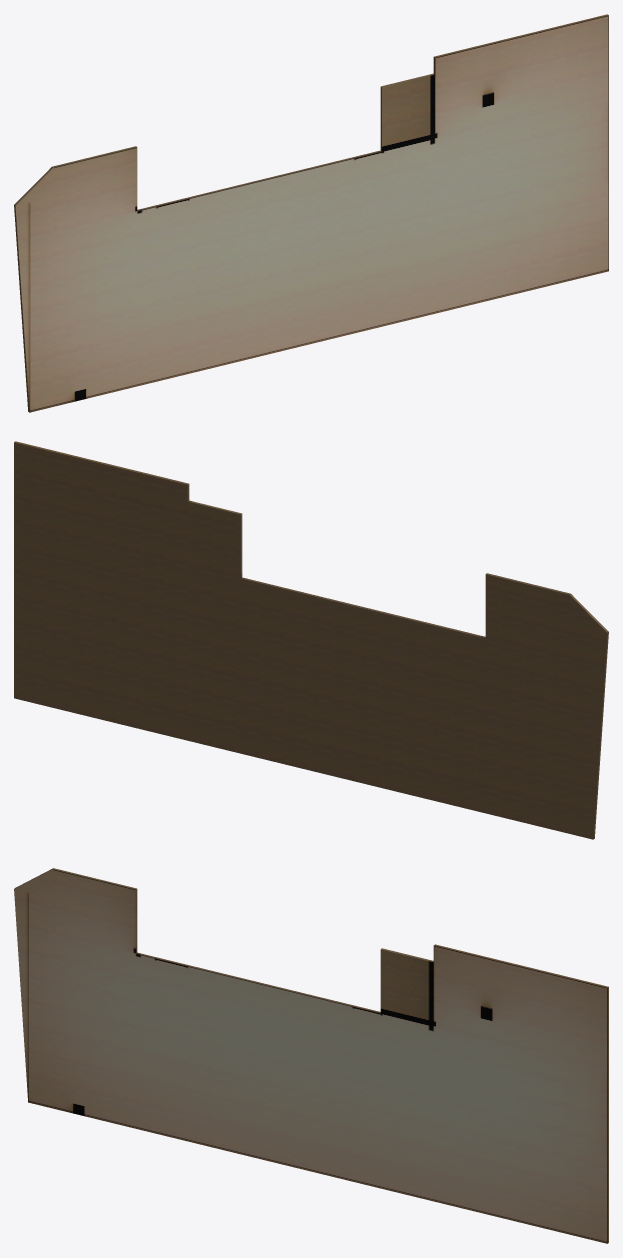
The model's file is office_floor.obj.
3 renders of one model, top to bottom at view 1: azimuth 30°, elevation 25°; view 2: azimuth 150°, elevation 25°; view 3: azimuth 330°, elevation 25°, orthographic.
Parts seen in each view (by area): view 1: BAKE_floor; view 2: BAKE_floor; view 3: BAKE_floor.
Boxes of the visible parts, x1,y1,x2,y2 form: BAKE_floor: (14, 14, 608, 412); BAKE_floor: (14, 441, 608, 839); BAKE_floor: (14, 868, 608, 1243).
Bounding box in the file's own units: 18.44 × 7.6 × 0.08.
Materials: 1 (1 with a texture image).
